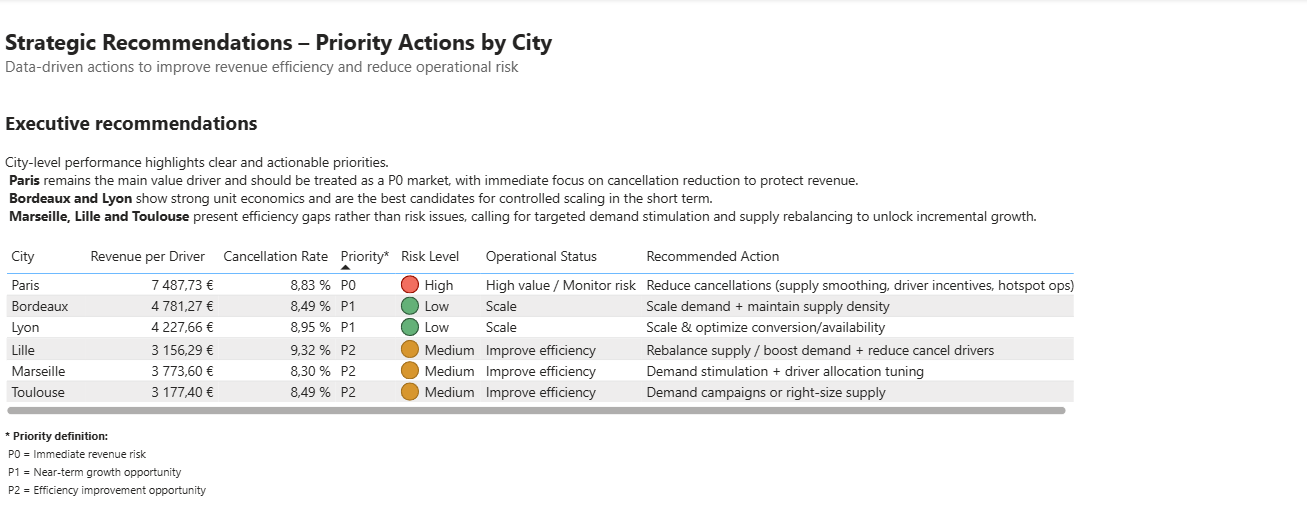

The dashboard page shown, as its layout file describes it:
{"tool":"powerbi","page":{"name":"Strategic Recommendations","canvas":[1280,720],"ordinal":3},"visuals":[{"type":"textbox","box":[0,23.3,564,67.2],"z":0},{"type":"textbox","box":[0,104.3,1280.3,131.7],"z":1000},{"type":"tableEx","fields":{"Values":["hype_taxi_cities.city_name","hype_taxi_trips_2025.Revenue per Driver","hype_taxi_trips_2025.Cancellation Rate","recommended actions.Priority","recommended actions.Risk Level","Table.Operational Status","Table.Recommended Action"]},"box":[0,236,1055.2,177],"z":2000},{"type":"textbox","box":[0,413,1055.2,85.1],"z":3000}]}

Visuals, with their boxes on the page's 1280x720 design canvas (x1, y1, x2, y2). These are canvas units, not pixel positions in the 1307x523 screenshot, which may show the page scaled, cropped or inside an application window:
textbox: box(0, 23, 564, 90)
textbox: box(0, 104, 1280, 236)
tableEx - hype_taxi_cities.city_name x hype_taxi_trips_2025.Revenue per Driver: box(0, 236, 1055, 413)
textbox: box(0, 413, 1055, 498)
